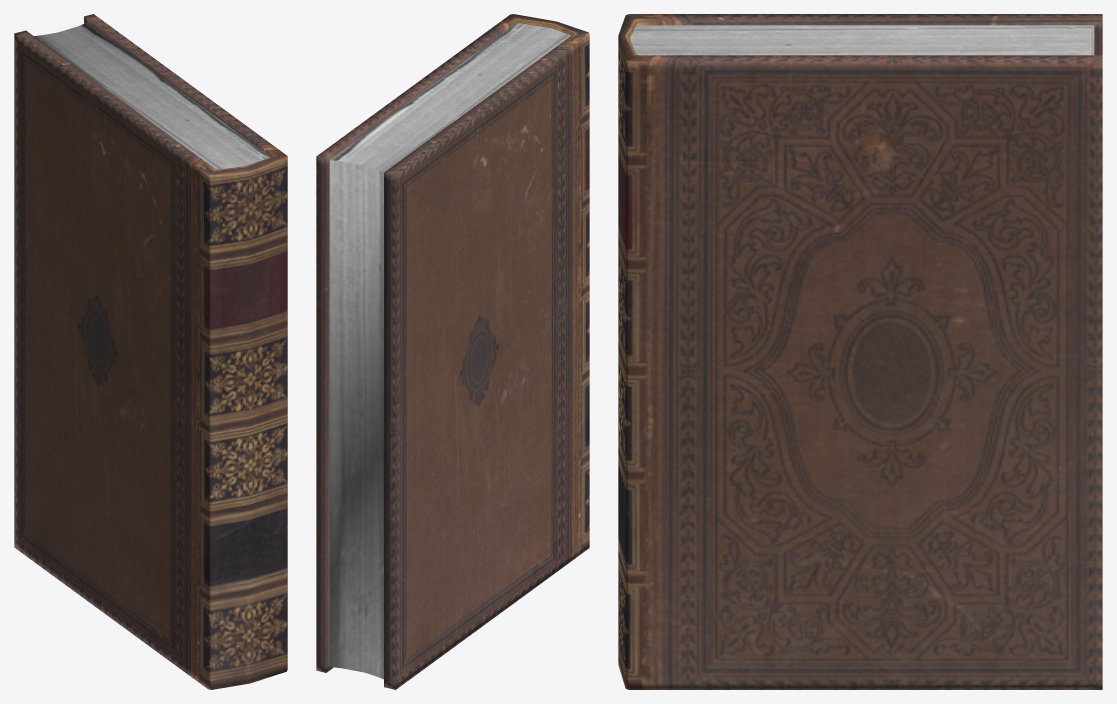
Rendered from SM_prop_Laboratory_Book_03.fbx.
3 views of the same model, side by side, from view 1: azimuth 30°, elevation 25°; view 2: azimuth 150°, elevation 25°; view 3: azimuth 270°, elevation 25° (orthographic). The views are drawn at different scales.
Parts seen in each view (by area): view 1: SM_prop_Laboratory_Book_03; view 2: SM_prop_Laboratory_Book_03; view 3: SM_prop_Laboratory_Book_03.
Part boxes in pixels (left/top/right/bottom): SM_prop_Laboratory_Book_03: left=14, top=14, right=287, bottom=689; SM_prop_Laboratory_Book_03: left=316, top=14, right=589, bottom=689; SM_prop_Laboratory_Book_03: left=618, top=14, right=1102, bottom=689.
Size of the model in its own units: 3.04 by 18.87 by 13.18.
1 material, 1 textured.
